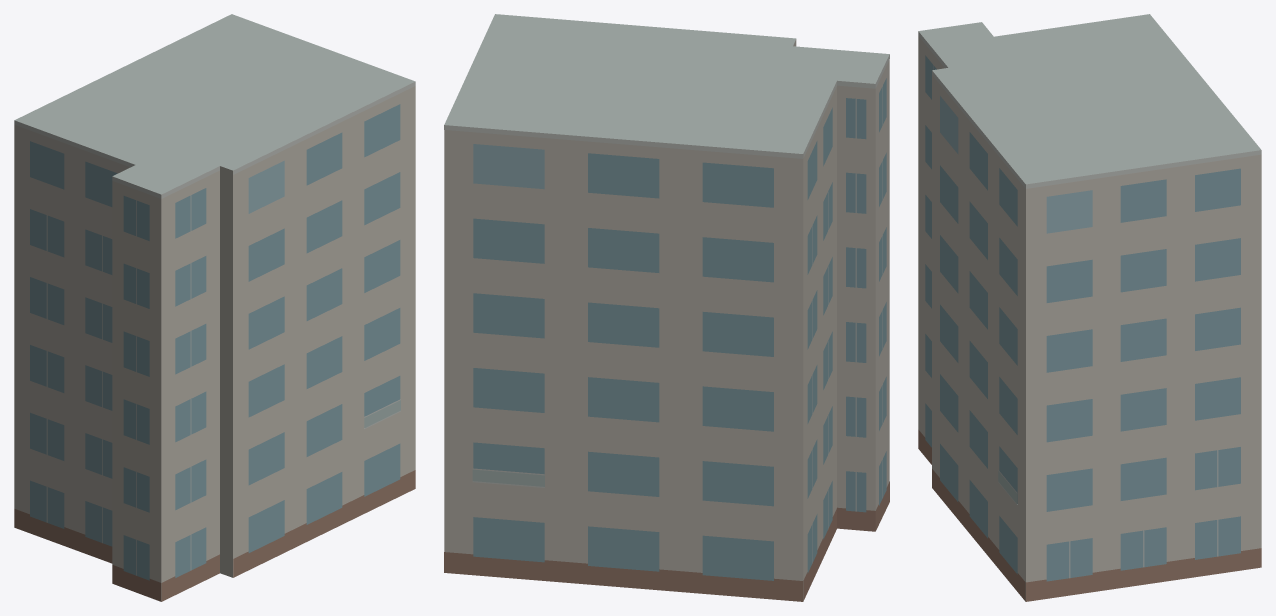
The model's file is survey-upis-32832850.glb.
3 views of the same model, side by side, from view 1: azimuth 30°, elevation 25°; view 2: azimuth 150°, elevation 25°; view 3: azimuth 270°, elevation 25° (orthographic). The views are drawn at different scales.
Visible parts, largest first — view 1: survey-upis-32832850.tmp; view 2: survey-upis-32832850.tmp; view 3: survey-upis-32832850.tmp.
Part boxes in pixels (<box>): survey-upis-32832850.tmp: <box>14,14,415,601</box>; survey-upis-32832850.tmp: <box>444,14,889,601</box>; survey-upis-32832850.tmp: <box>918,14,1261,601</box>.
Bounding box in the file's own units: 19.83 × 22.64 × 16.89.
